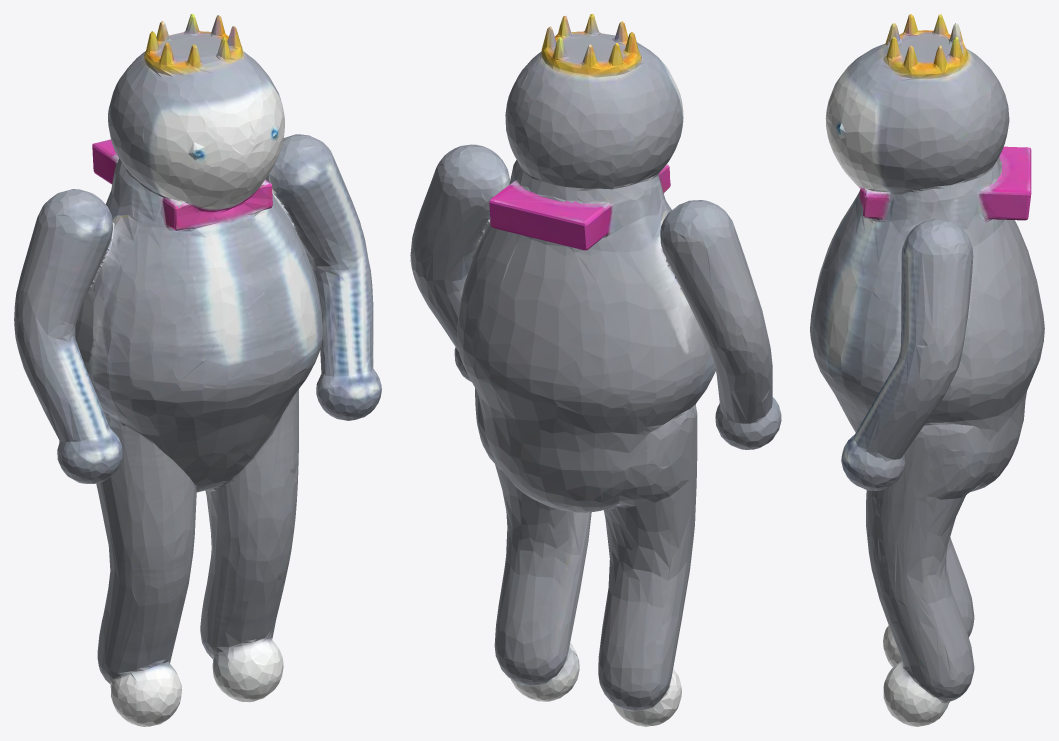
Rendered from creature-047.lod.glb.
3 views of the same model, side by side, from view 1: azimuth 30°, elevation 25°; view 2: azimuth 150°, elevation 25°; view 3: azimuth 270°, elevation 25° (orthographic). The views are drawn at different scales.
Visible parts, largest first — view 1: tmp63ji_dk2.ply; view 2: tmp63ji_dk2.ply; view 3: tmp63ji_dk2.ply.
Boxes of the visible parts, left/top/right/bottom form: tmp63ji_dk2.ply: left=14, top=14, right=381, bottom=726; tmp63ji_dk2.ply: left=410, top=14, right=781, bottom=726; tmp63ji_dk2.ply: left=810, top=14, right=1044, bottom=726.
Bounding box in the file's own units: 1.06 × 1.99 × 0.6327.
Materials: 1 (1 with a texture image).
